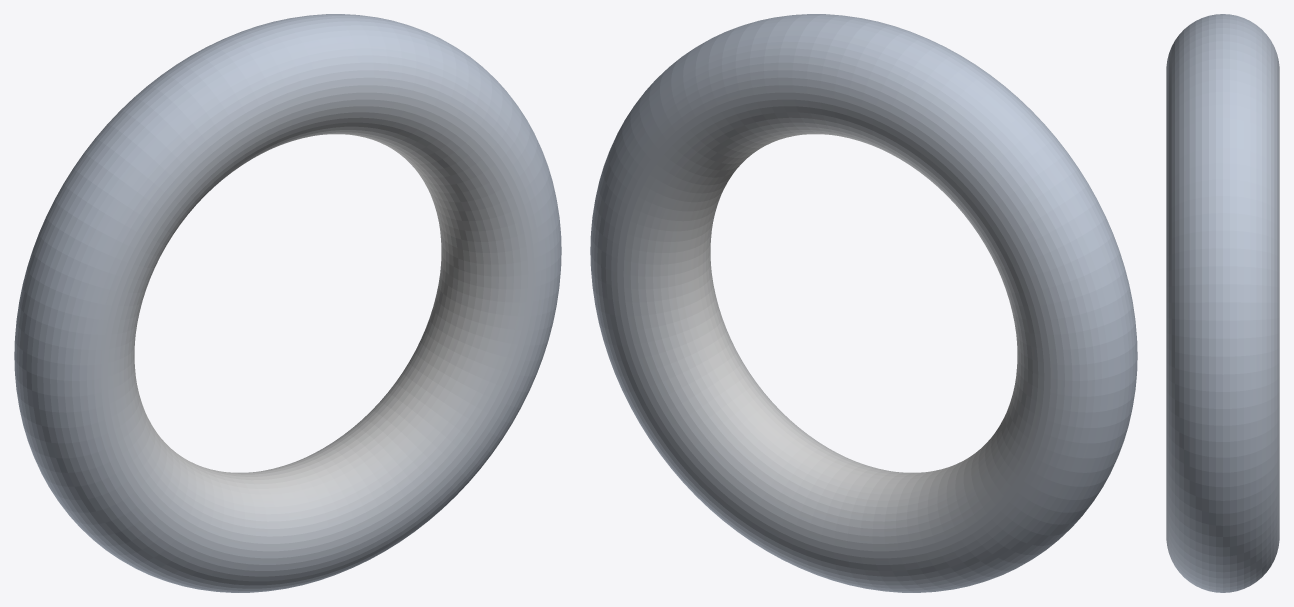
3 views of the same model, side by side, from view 1: azimuth 30°, elevation 25°; view 2: azimuth 150°, elevation 25°; view 3: azimuth 270°, elevation 25° (orthographic). The views are drawn at different scales.
Parts seen in each view (by area): view 1: world; view 2: world; view 3: world.
Boxes of the visible parts, left/top/right/bottom form: world: left=14, top=14, right=561, bottom=592; world: left=590, top=14, right=1137, bottom=592; world: left=1166, top=14, right=1279, bottom=592.
Size of the model in its own units: 26.53 by 26.53 by 5.19.
